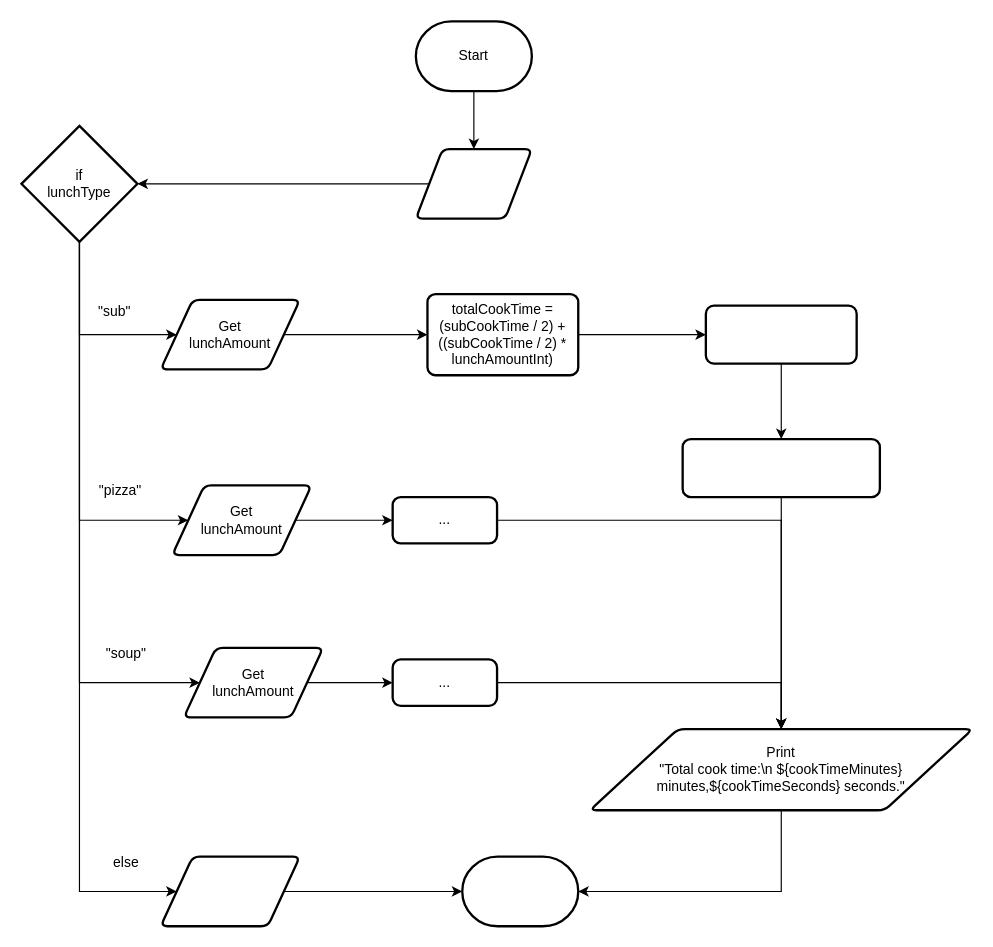
This 993x947 diagram has some shape labels left out. The centre of each missing label's shape, as x and y in pixels:
cookTimeMinutes = Math.floor(totalCookTime / 60): (780,467)
cookTimeSeconds = totalCookTime % 60: (780,334)
Get lunchType: (473,183)
Print "Invalid input": (229,891)
Stop: (520,891)
